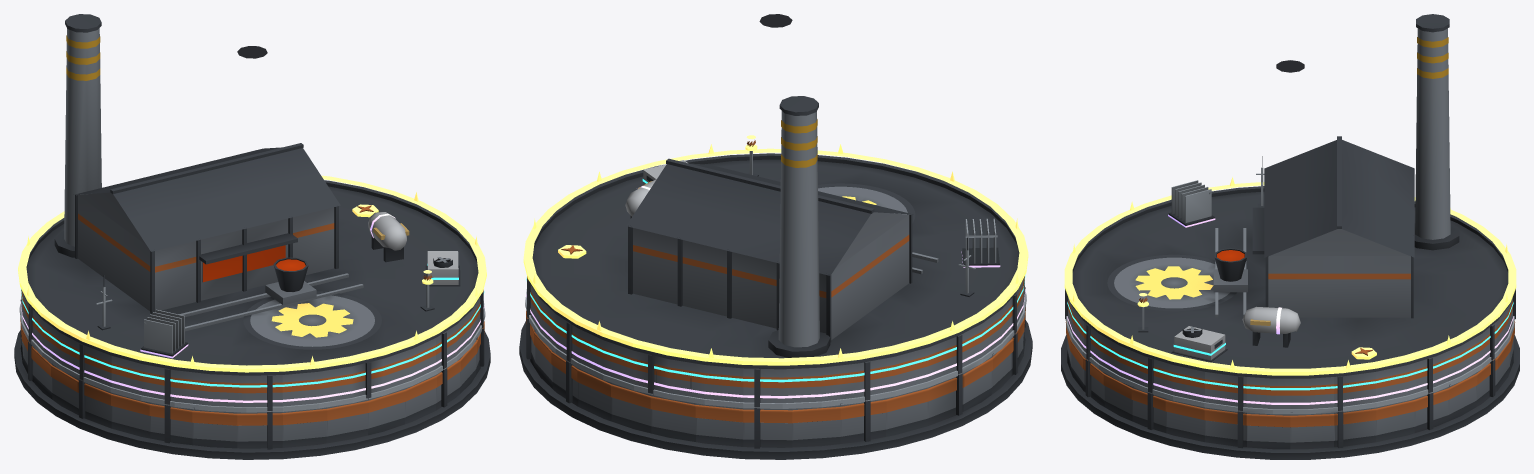
Rendered from steel_mill_m_far.glb.
3 renders of one model, left to right at view 1: azimuth 30°, elevation 25°; view 2: azimuth 150°, elevation 25°; view 3: azimuth 270°, elevation 25°, orthographic. The views are drawn at different scales.
Visible parts, largest first — view 1: Roof, Base, L5, L4, L2, L3; view 2: Roof, Base, L5, L2, L4, L3; view 3: Roof, Base, L5, L4, L2, L3.
Boxes of the visible parts, x1,y1,x2,y2 form: Roof: (21, 14, 483, 410); Base: (14, 300, 490, 459); L5: (18, 175, 486, 372); L4: (20, 212, 484, 402); L2: (19, 275, 485, 412); L3: (21, 251, 484, 387); Roof: (527, 14, 1024, 407); Base: (519, 287, 1032, 459); L5: (523, 135, 1028, 365); L2: (525, 237, 1026, 408); L4: (526, 179, 1025, 398); L3: (526, 160, 1025, 382); Roof: (1065, 14, 1515, 410); Base: (1061, 319, 1519, 459); L5: (1064, 177, 1516, 375); L4: (1067, 180, 1513, 404); L2: (1066, 156, 1514, 414); L3: (1067, 302, 1513, 390).
Bounding box in the file's own units: 14.75 × 10.52 × 14.75.
